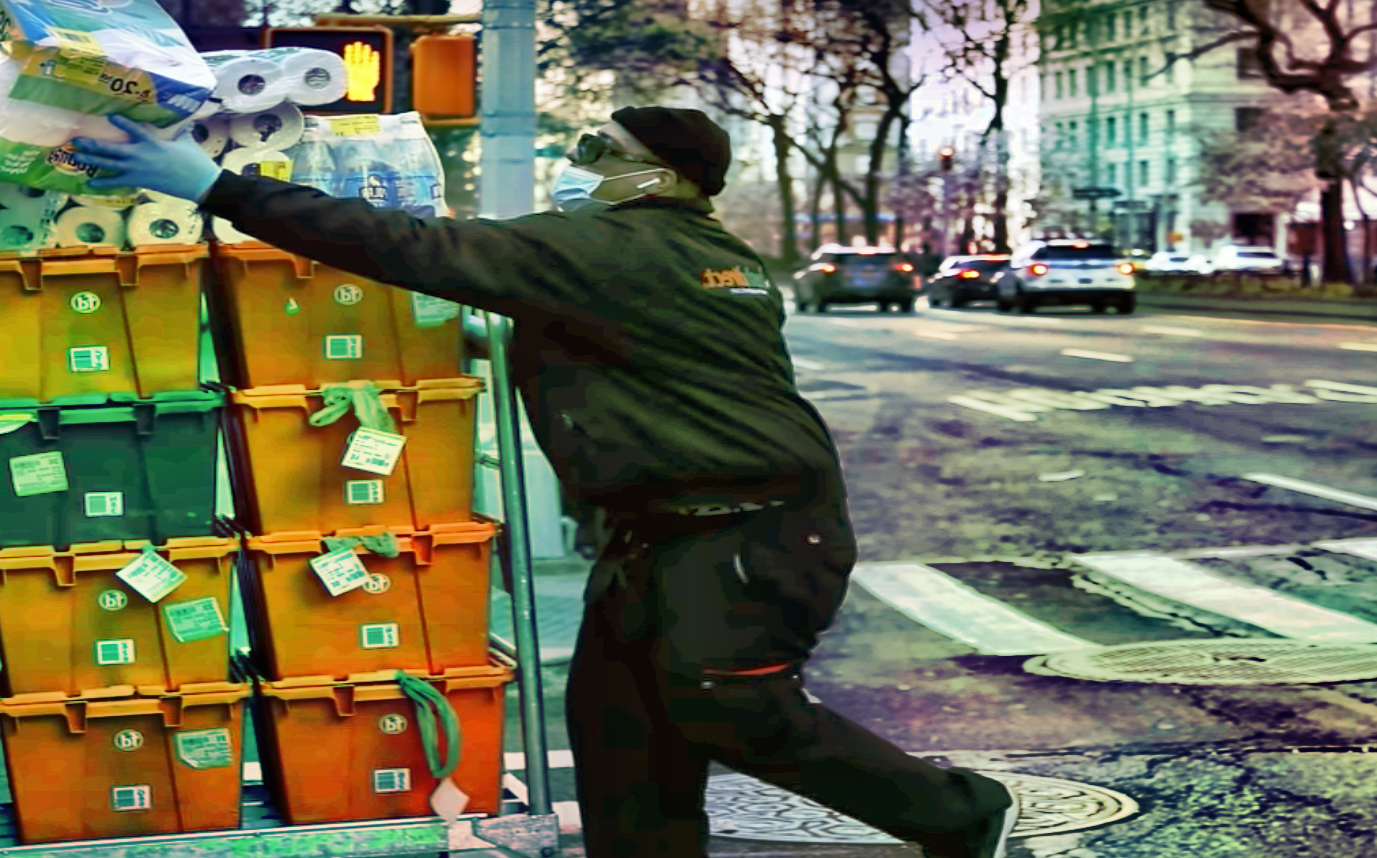mask_weared_incorrect: (549, 104, 728, 217)
